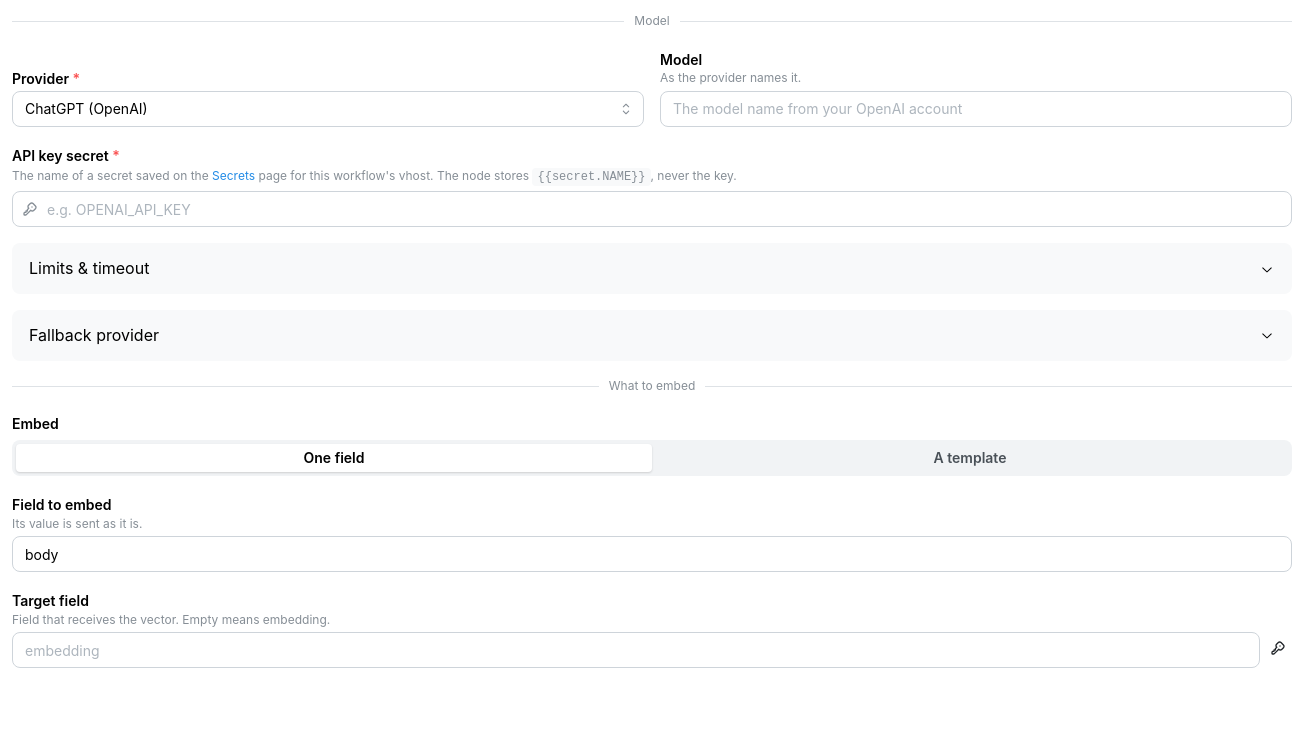
it: AI Embed settings › writes the vector to embedding by default and takes no token limit
What coordinates should you click on to do the following:
click the button "Limits & timeout"
I would click on:
 (89, 268)
Its box is [13,244,1291,293].
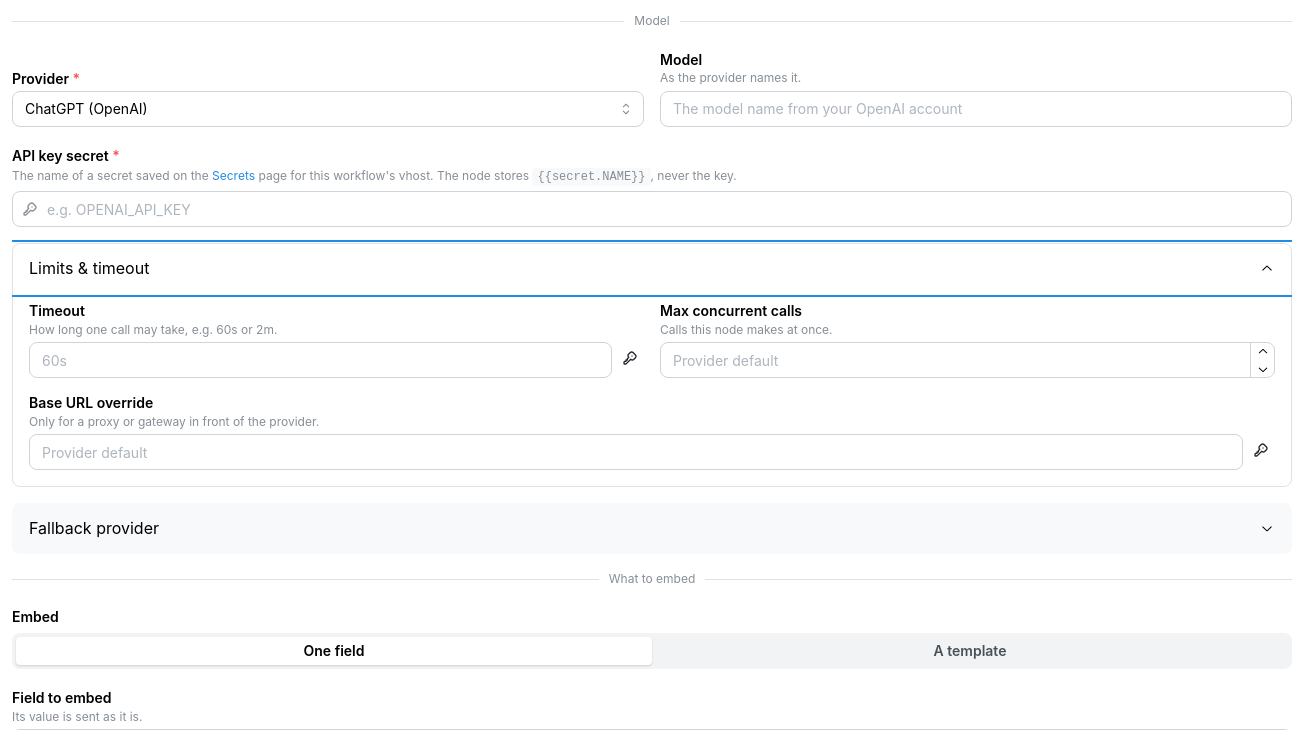
Result: the field labelled "Timeout" is shown at [29,342,612,378]
